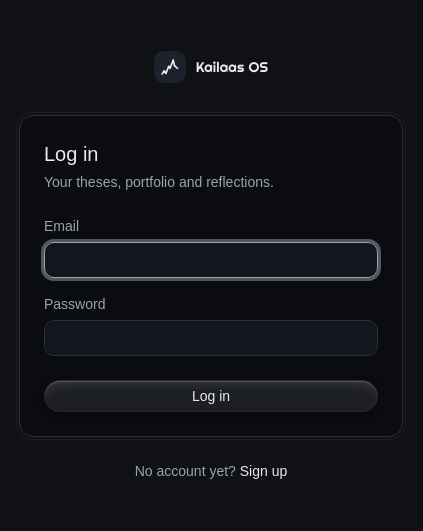
Test: the login form › shows the server wording inline on bad credentials, and does not clear the password
Type "ada@example.com" into the field labelled "Email".
click(211, 260); type("ada@example.com")  # box left=44, top=242, right=378, bottom=278
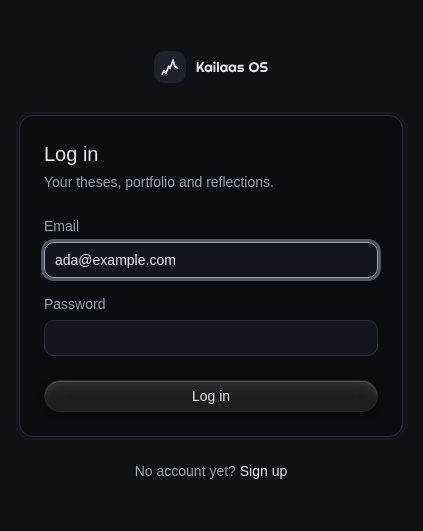
Type "wrong-password" into the password field labelled "Password".
click(211, 338); type("wrong-password")  # box left=44, top=320, right=378, bottom=356
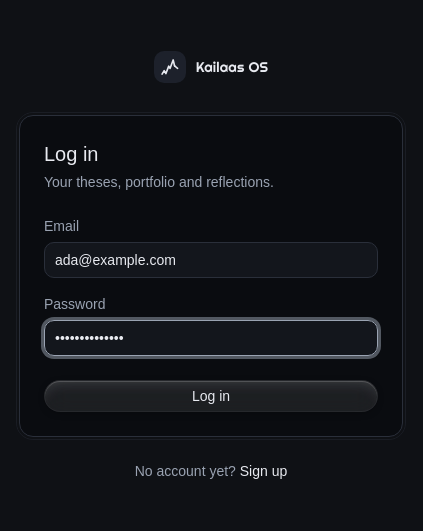
Click the button "Log in".
click(211, 396)  # box left=44, top=380, right=378, bottom=412
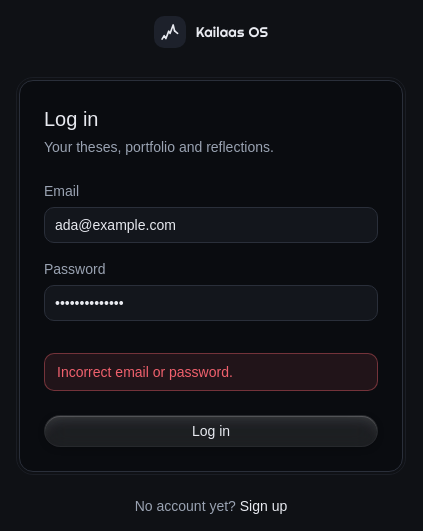
Check: the message reads "Incorrect email or password.", box left=57, top=364, right=233, bottom=380
